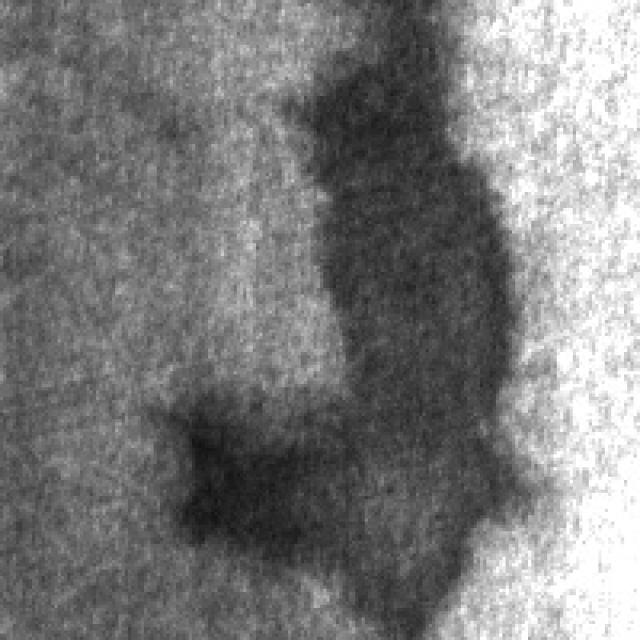patches: (272, 0, 522, 611), (144, 380, 333, 570)
